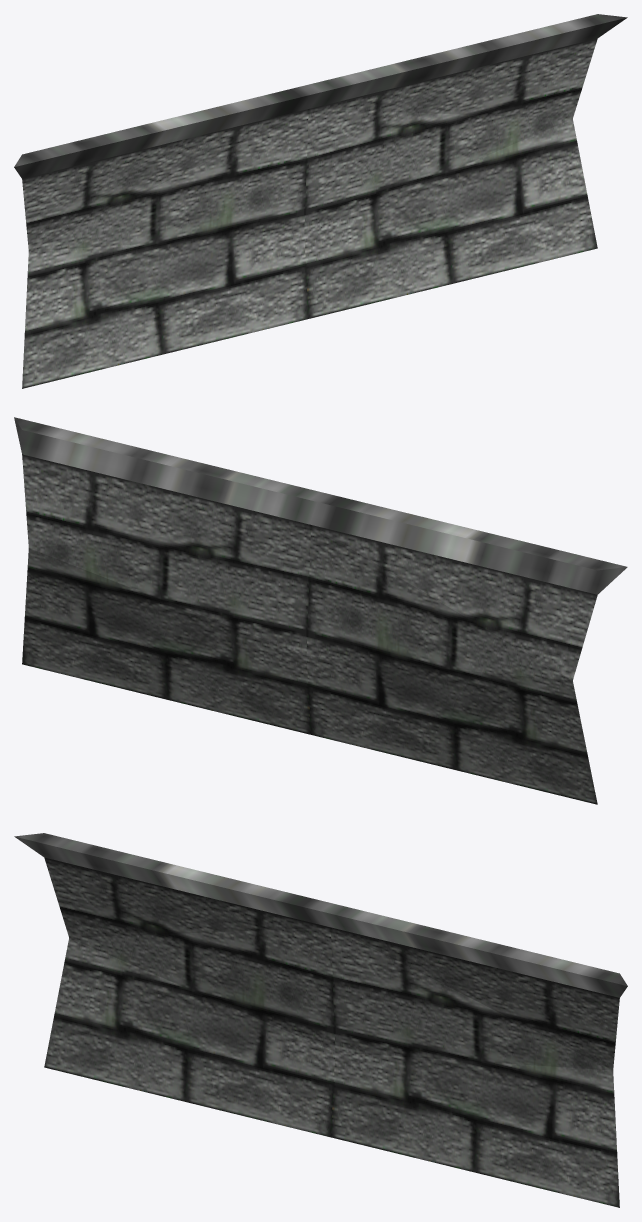
The model's file is W_A1_xxxx [Schalsteine]_454.glb.
3 views of the same model, one above another, from view 1: azimuth 30°, elevation 25°; view 2: azimuth 150°, elevation 25°; view 3: azimuth 330°, elevation 25° (orthographic).
Visible parts, largest first — view 1: polySurfaceShape787, polySurfaceShape1065; view 2: polySurfaceShape787, polySurfaceShape1065; view 3: polySurfaceShape787, polySurfaceShape1065.
Boxes of the visible parts, x1=… form: polySurfaceShape787: x1=22, y1=38, x2=597, y2=388; polySurfaceShape1065: x1=14, y1=14, x2=627, y2=178; polySurfaceShape787: x1=22, y1=454, x2=597, y2=804; polySurfaceShape1065: x1=14, y1=417, x2=627, y2=594; polySurfaceShape787: x1=44, y1=857, x2=619, y2=1207; polySurfaceShape1065: x1=14, y1=833, x2=627, y2=997.
Bounding box in the file's own units: 1.07 × 0.3891 × 0.0607.
Materials: 2 (2 with a texture image).
